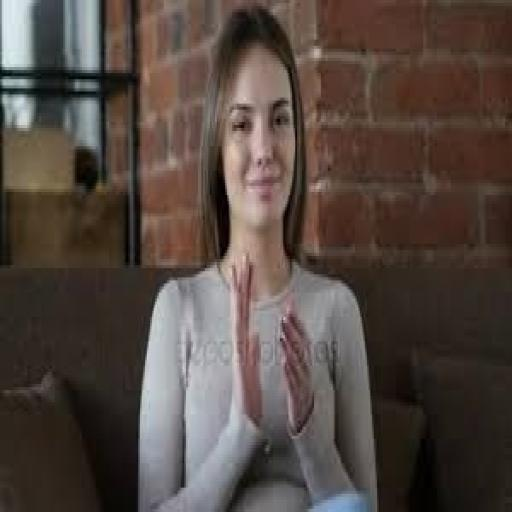clapping: (134, 3, 380, 509)
